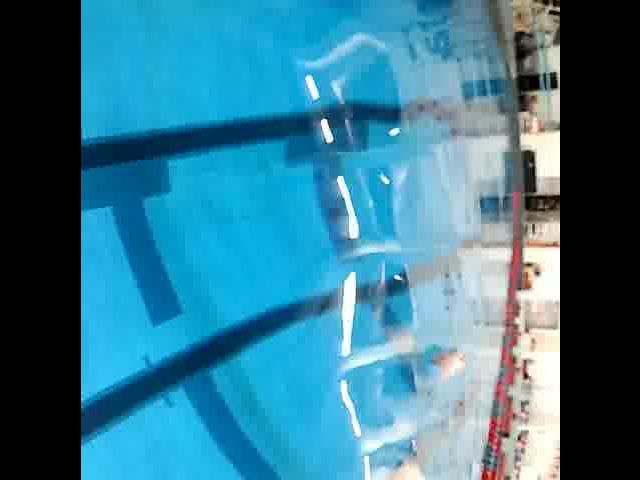Bottle: (412, 345, 468, 394)
